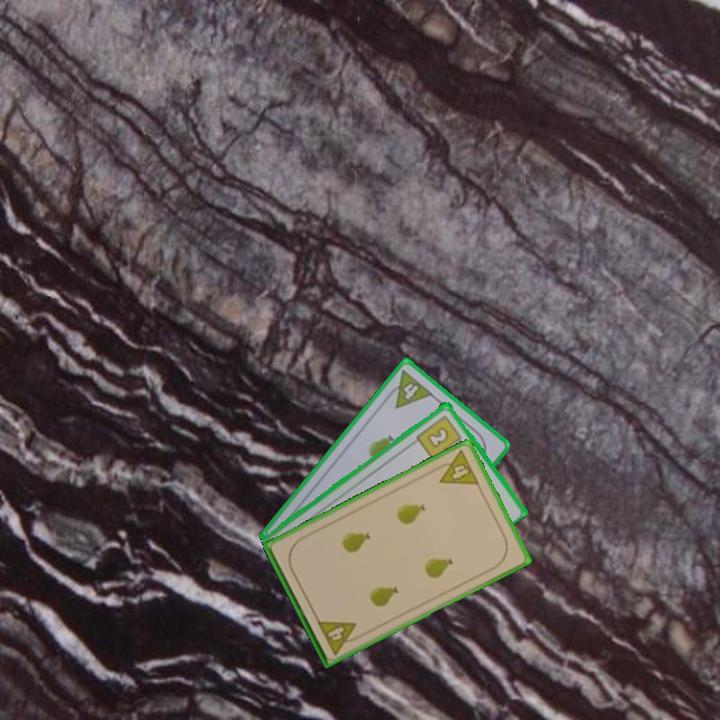2b: (413, 411, 467, 462)
4p: (381, 366, 436, 411), (430, 446, 482, 488), (313, 616, 364, 657)
